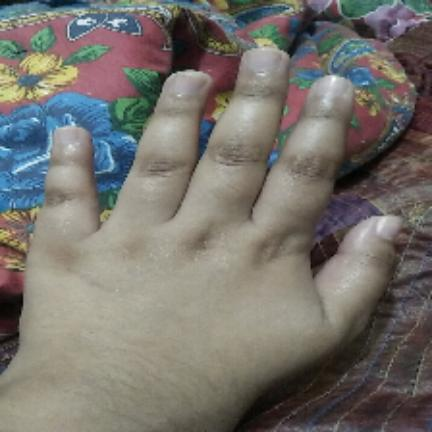Nail: (246, 47, 281, 72), (170, 75, 206, 96), (375, 215, 402, 242), (315, 75, 349, 96), (56, 128, 80, 145)
